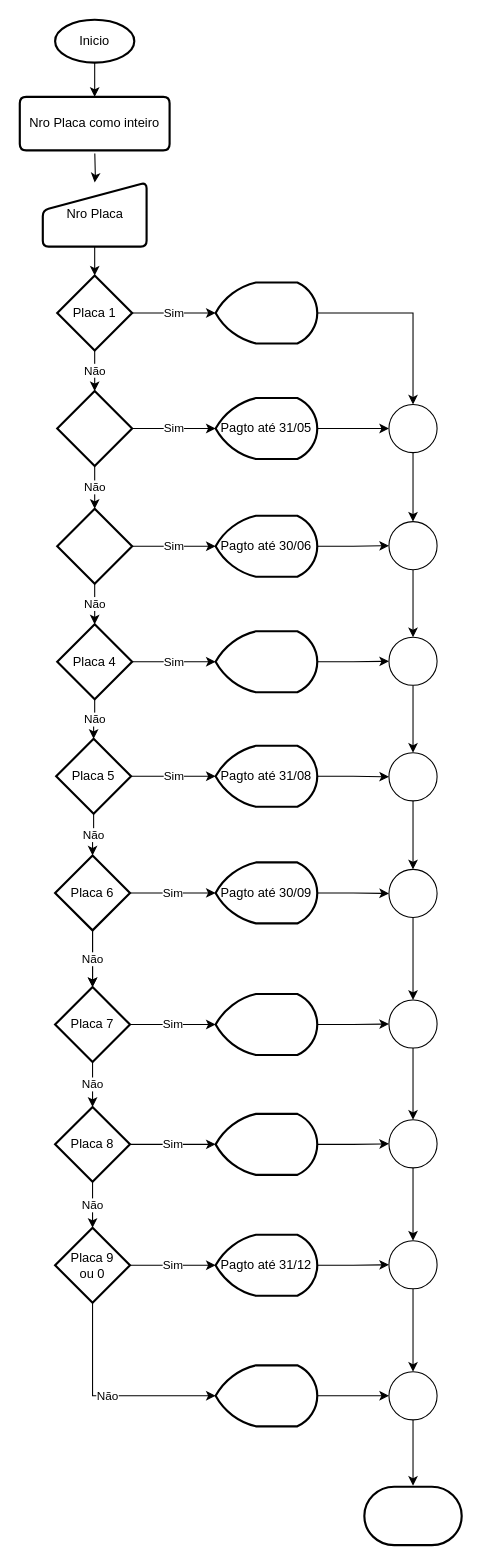
The diagram is 480 pixels wide and 1564 high, and some of its shapes have lost their labels. Each missing label, with the centre of its shape:
Fim: pixel 412 1515
Numero Incorreto: pixel 266 1395
Pagto até 30/07: pixel 266 661
Pagto até 30/11: pixel 266 1143
Pagto até 31/10: pixel 266 1024
Pgto até 30/04: pixel 266 312
Placa 2: pixel 94 428
Placa 3: pixel 94 545
